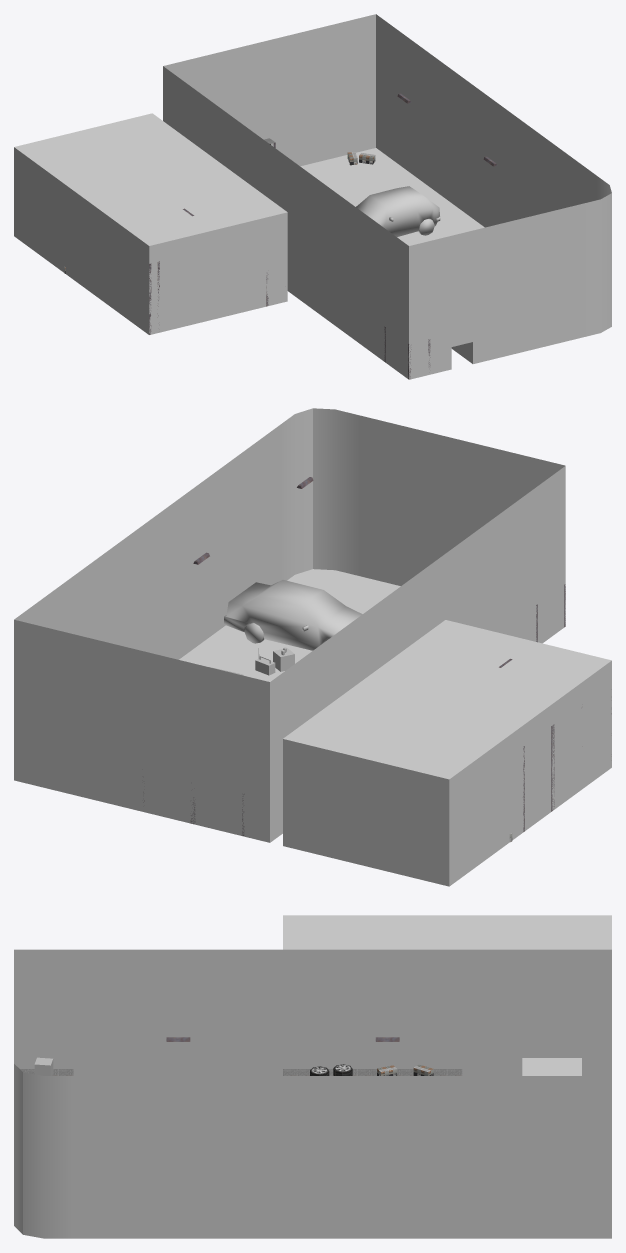
File: Workshop.fbx
The picture shows the model from 3 angles, top to bottom: view 1: azimuth 30°, elevation 25°; view 2: azimuth 150°, elevation 25°; view 3: azimuth 270°, elevation 25°; orthographic projection. The views are drawn at different scales.
Visible parts, largest first — view 1: Terrain, Car3; view 2: Terrain, Car2; view 3: Terrain.
Part boxes in pixels (bbox=[...]): Terrain: bbox=[14, 14, 611, 379]; Car3: bbox=[356, 186, 440, 236]; Terrain: bbox=[14, 408, 611, 886]; Car2: bbox=[224, 580, 362, 650]; Terrain: bbox=[14, 915, 611, 1238].
Size of what is drawn, in the model's own units: 1703 by 603 by 2000.
